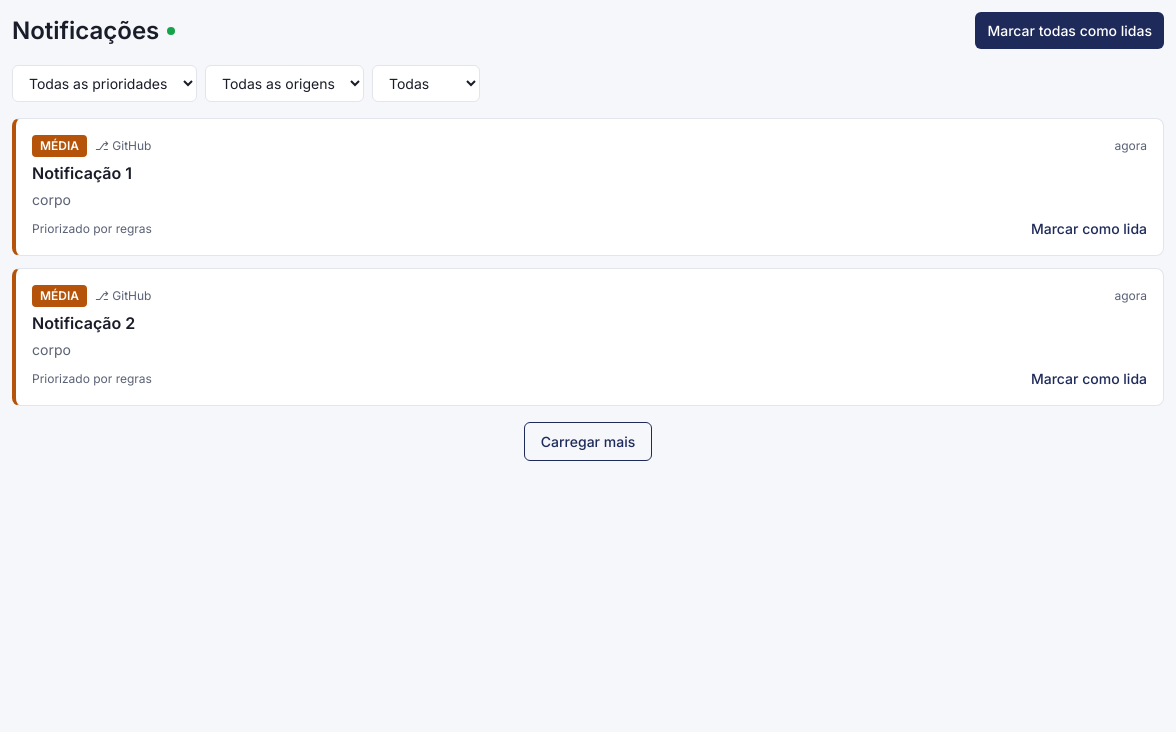
Scenario: NotificationsPage — paginação › marcar como lida NÃO descarta as páginas já carregadas
Expected: the heading "Notificação 1" is shown, [32,163,132,183]
Click the button "Carregar mais" at (588, 442), box [524,422,652,461]
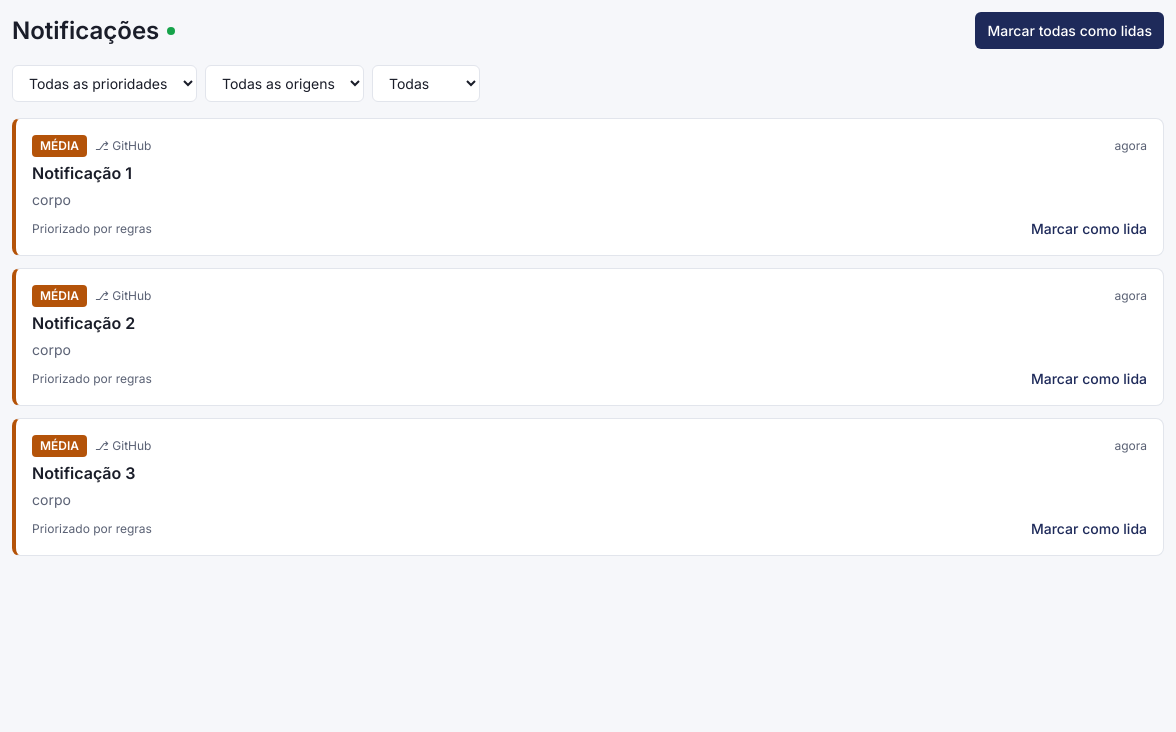
Expected: the heading "Notificação 3" is shown, [32,463,136,483]
Expected: the number of buttons "Marcar como lida" is 3
Click the 1st button "Marcar como lida" at (1089, 228), box [1031,218,1147,239]
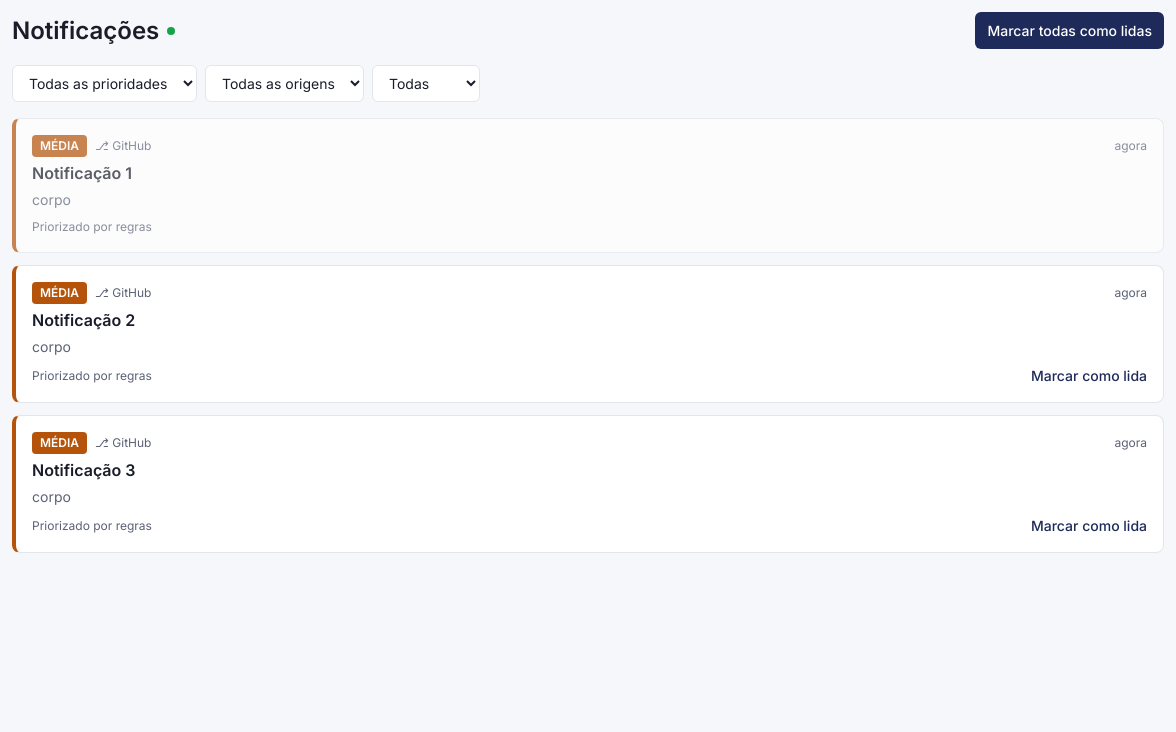
Expected: the number of elements with test id "notification-card" is 3, [12,118,1164,253]; [12,265,1164,403]; [12,415,1164,553]
Expected: the heading "Notificação 3" is shown, [32,460,136,480]
Expected: the number of buttons "Marcar como lida" is 2, [1031,365,1147,386]; [1031,515,1147,536]
